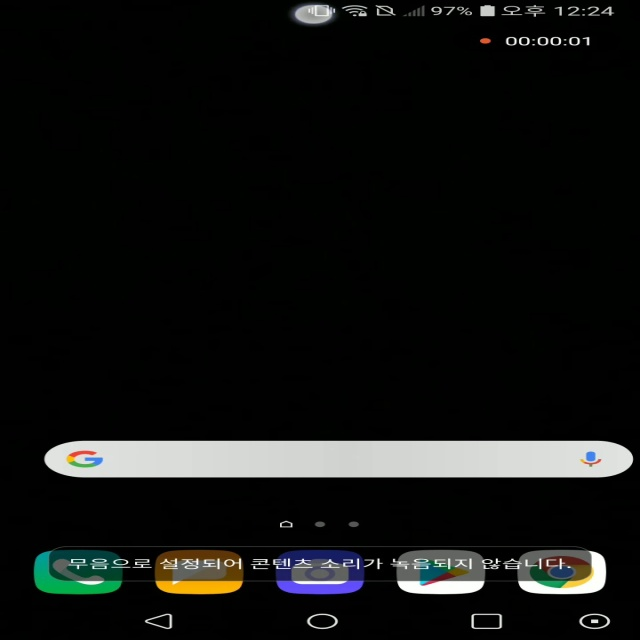Cursor: (292, 4, 336, 27)
